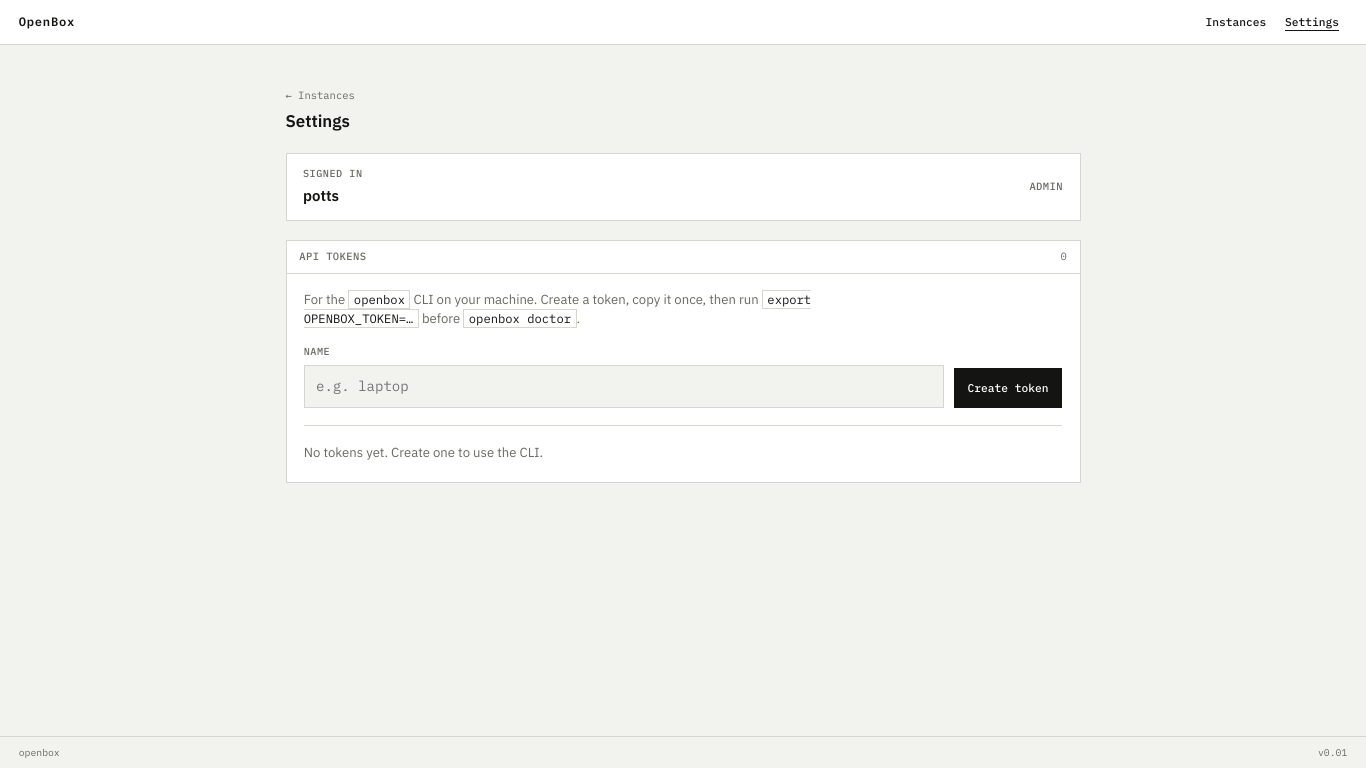
Scenario: SettingsPage › creates a token, shows the secret once, and lists it
Check: the heading "Settings" is shown, box left=286, top=110, right=355, bottom=134
Check: the text "potts" is shown, box left=303, top=186, right=339, bottom=205
Type "laptop" into the field labelled "Name" at (624, 386), box left=304, top=365, right=944, bottom=408
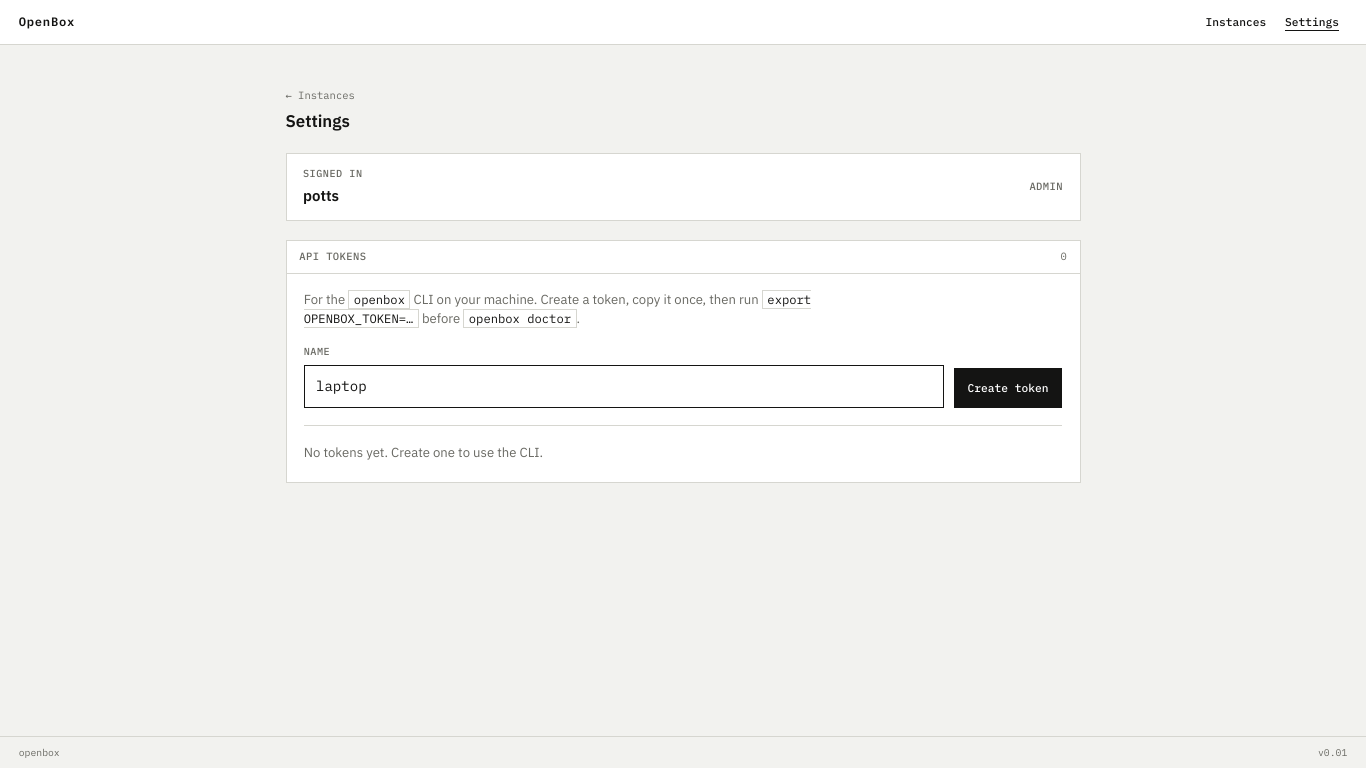
Click the button "Create token" at (1008, 388), box left=954, top=368, right=1062, bottom=408
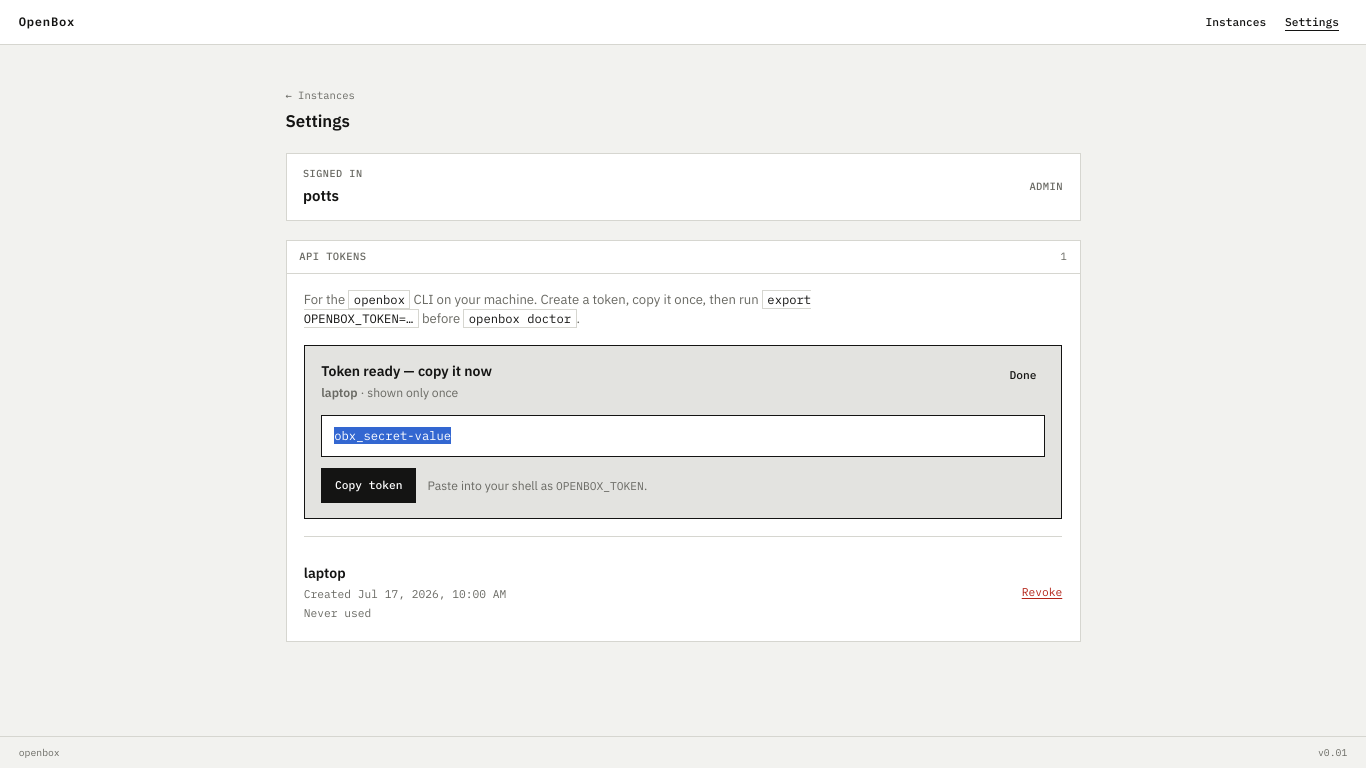
Check: the heading "Token ready — copy it now" is shown, box left=321, top=361, right=492, bottom=381
Check: the field showing "obx_secret-value" is shown, box left=321, top=415, right=1045, bottom=457
Check: the text "laptop" next to "· shown only once" is shown, box left=321, top=385, right=358, bottom=400
